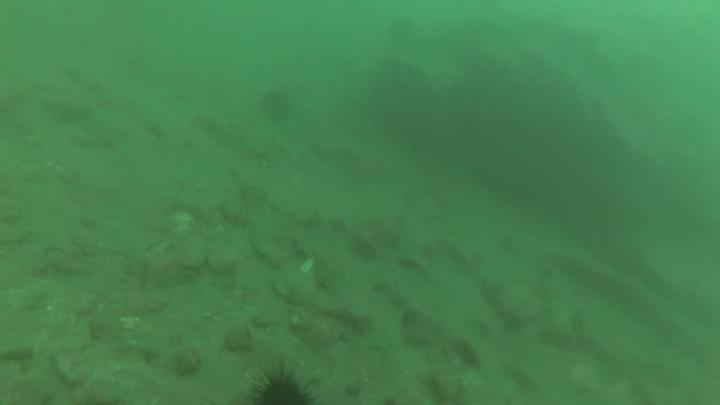echinus: (245, 364, 319, 405), (257, 86, 297, 129), (384, 13, 418, 41)
